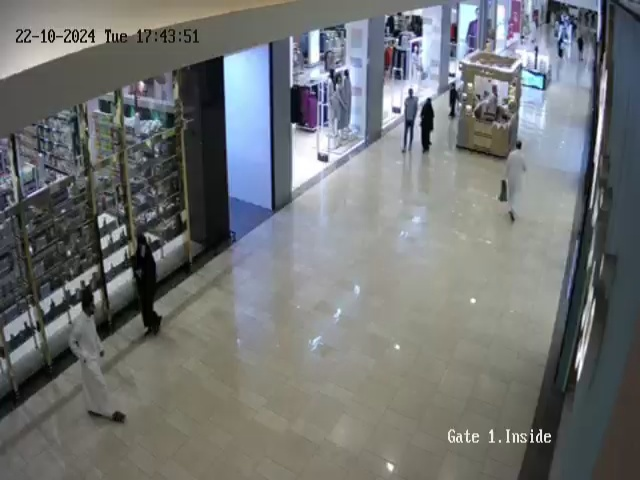female: (132, 222, 163, 336), (420, 97, 434, 154)
male: (68, 286, 126, 424), (497, 133, 533, 242), (401, 88, 419, 153), (552, 32, 566, 81), (573, 32, 588, 63), (448, 84, 460, 117)
other: (331, 65, 354, 144)
